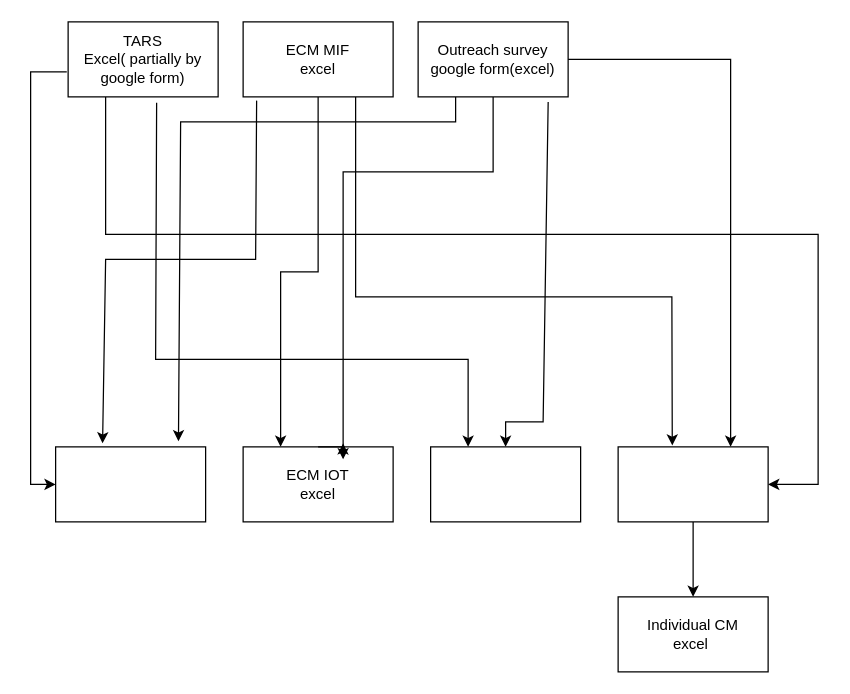
Image size: 850x694. Some labels were removed from this diagram. Here are the shapes that lost their labels. From the top down, the centre of each, then its label:
the point at 130,484: ECM RTF excel
the point at 505,484: CS RTF excel
the point at 692,484: Master CM excel
